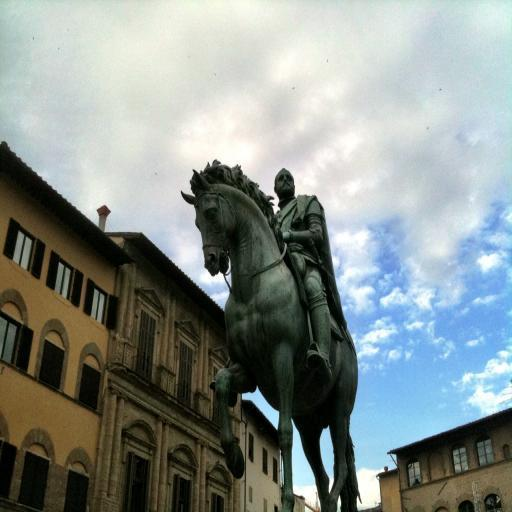horse: (179, 157, 361, 512)
